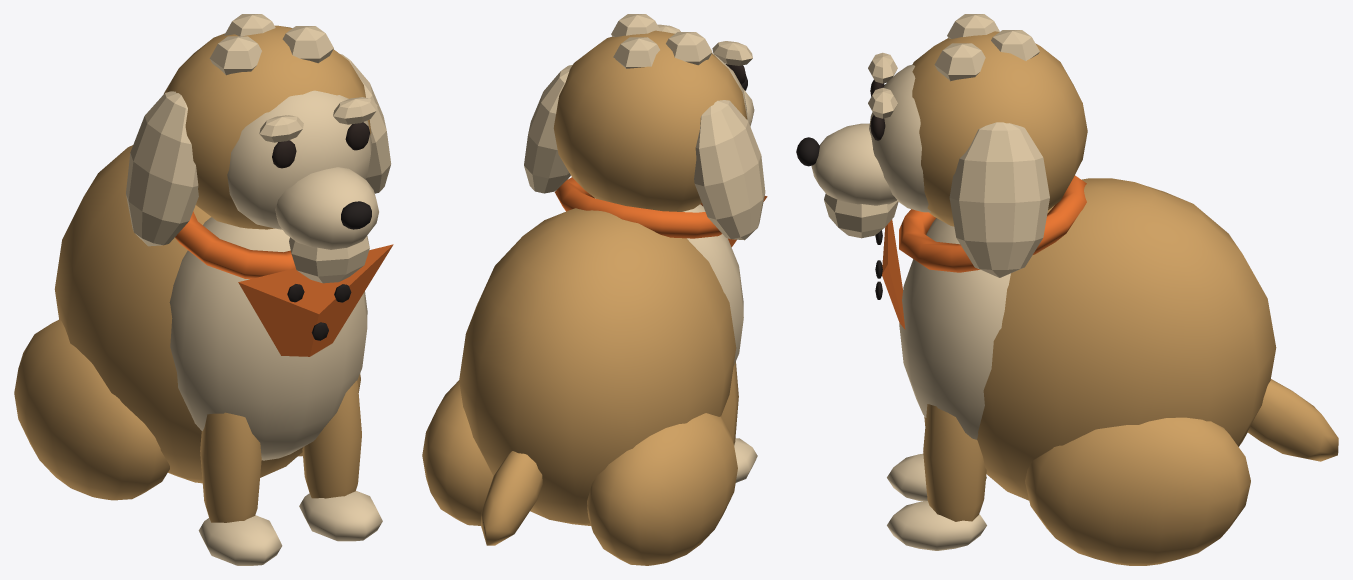
The model's file is parker.glb.
3 views of the same model, side by side, from view 1: azimuth 30°, elevation 25°; view 2: azimuth 150°, elevation 25°; view 3: azimuth 270°, elevation 25° (orthographic). The views are drawn at different scales.
Visible parts, largest first — view 1: Parker_Body, Parker_Beard, Parker_Bandana, Parker_Eye_L, Parker_Print_0, Parker_Nose; view 2: Parker_Body, Parker_Beard, Parker_Bandana; view 3: Parker_Body, Parker_Beard, Parker_Bandana.
Part boxes in pixels (bbox=[...]): Parker_Body: bbox=[14, 25, 371, 522]; Parker_Beard: bbox=[126, 14, 391, 565]; Parker_Bandana: bbox=[175, 211, 393, 356]; Parker_Eye_L: bbox=[272, 122, 369, 168]; Parker_Print_0: bbox=[287, 284, 351, 340]; Parker_Nose: bbox=[341, 201, 371, 229]; Parker_Body: bbox=[422, 30, 747, 565]; Parker_Beard: bbox=[524, 14, 765, 482]; Parker_Bandana: bbox=[554, 177, 767, 247]; Parker_Body: bbox=[912, 31, 1338, 565]; Parker_Beard: bbox=[811, 14, 1049, 550]; Parker_Bandana: bbox=[882, 175, 1086, 329].
Size of the model in its own units: 0.2672 by 0.433 by 0.4317.
